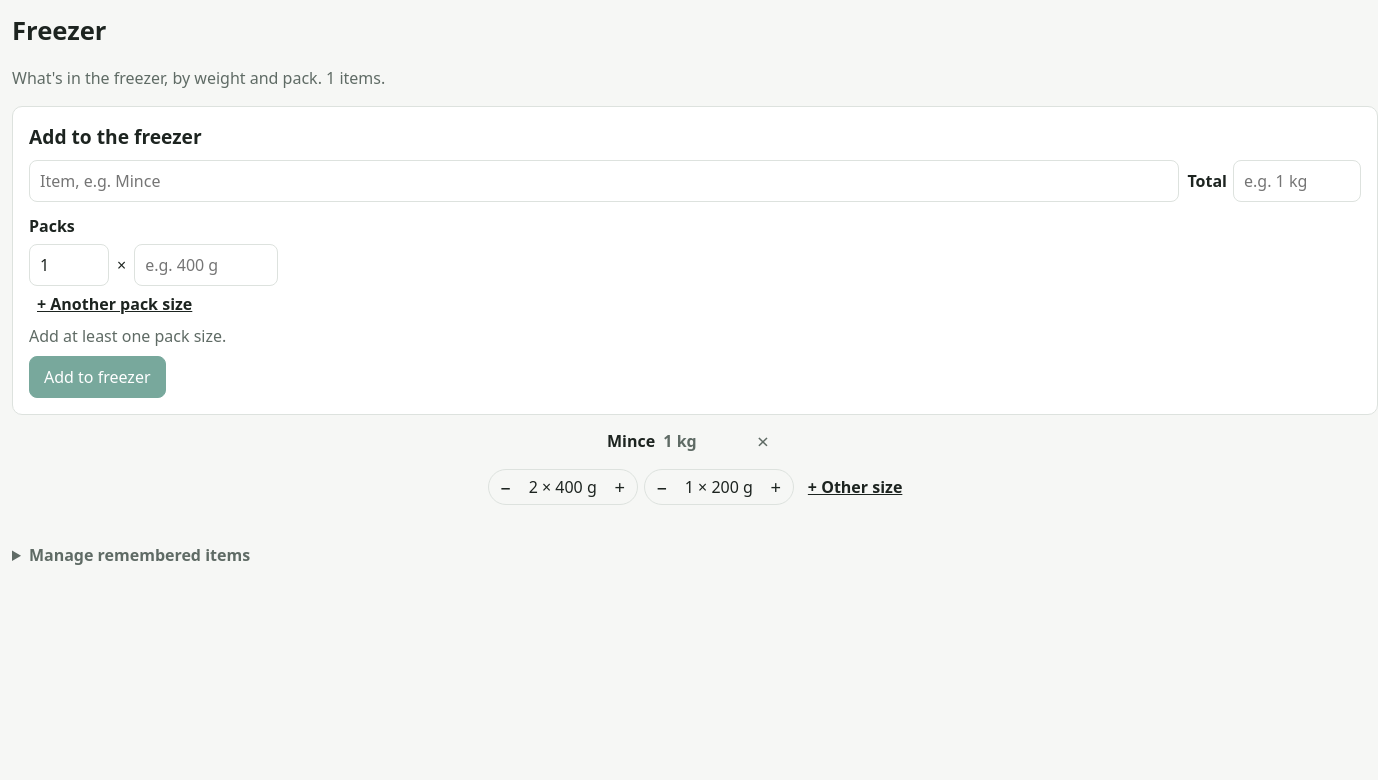
it: FreezerPage › adds an item with packs, checking they add up to the total (F1)
This screenshot has width=1378, height=780.
Later steps or results of the test are not shown.
Expected: the text "Mince" is shown, [607, 430, 655, 452]
In the dropdown named "Item name": (604, 181) [29, 160, 1180, 202], type "Mince"
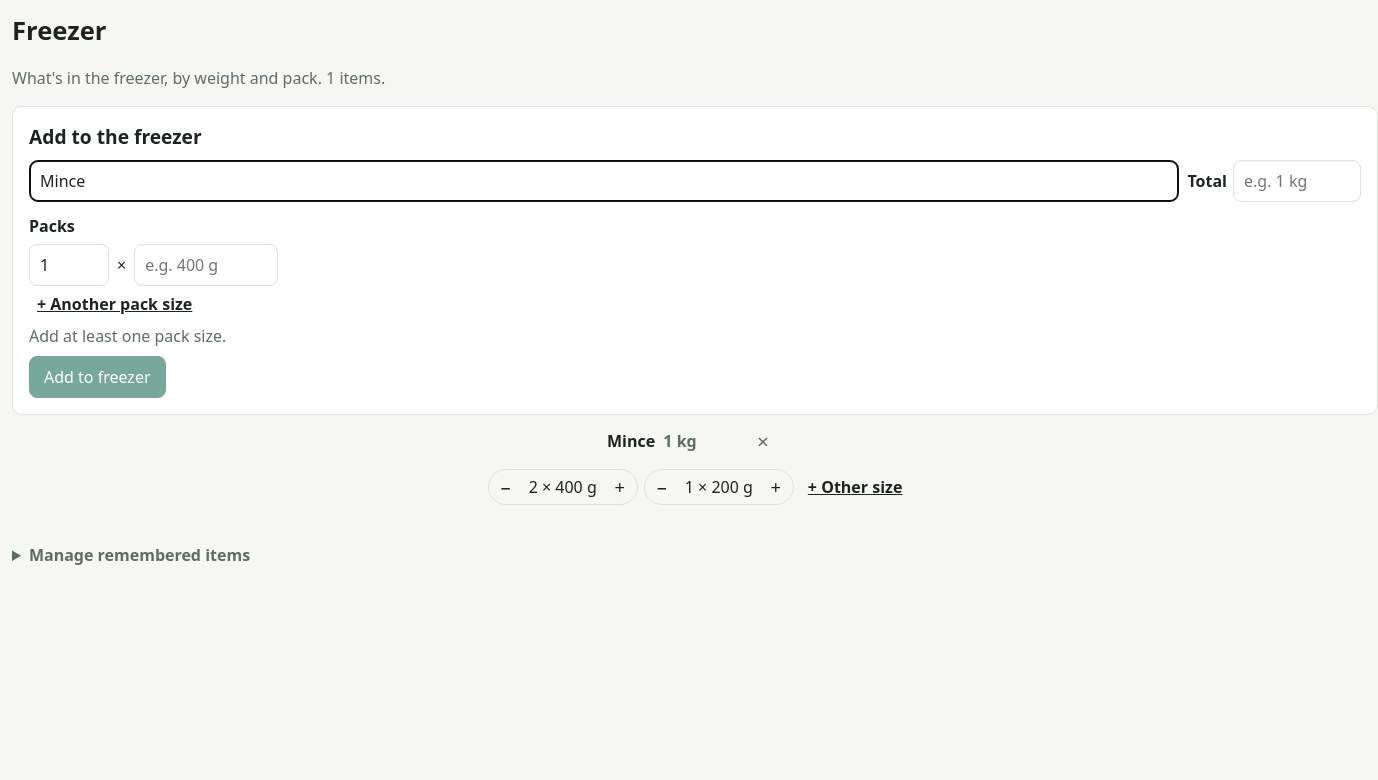
In the field named "Total weight": (1297, 181) [1233, 160, 1361, 202], type "1kg"
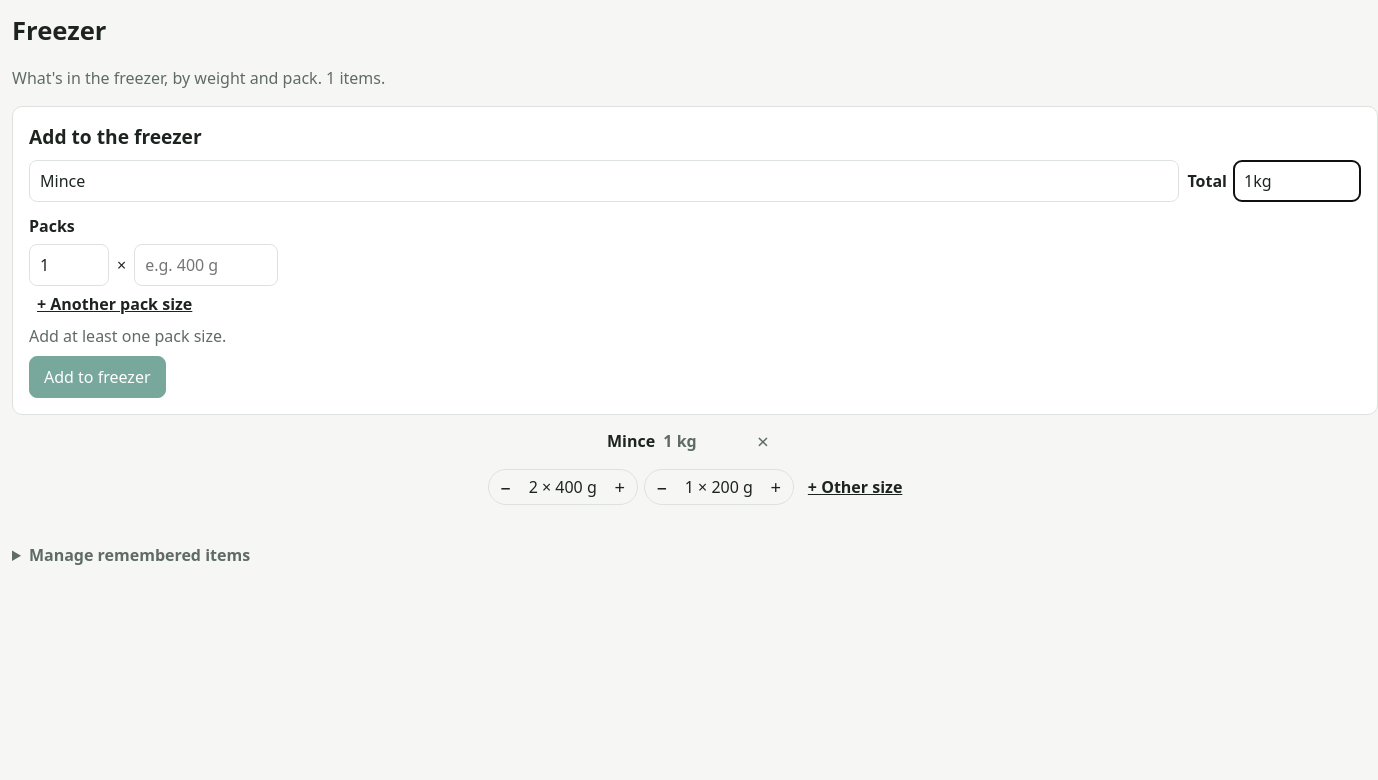
Replace the text in the number field named "Number of packs, row 1" with "2": (69, 265) [29, 244, 109, 286]
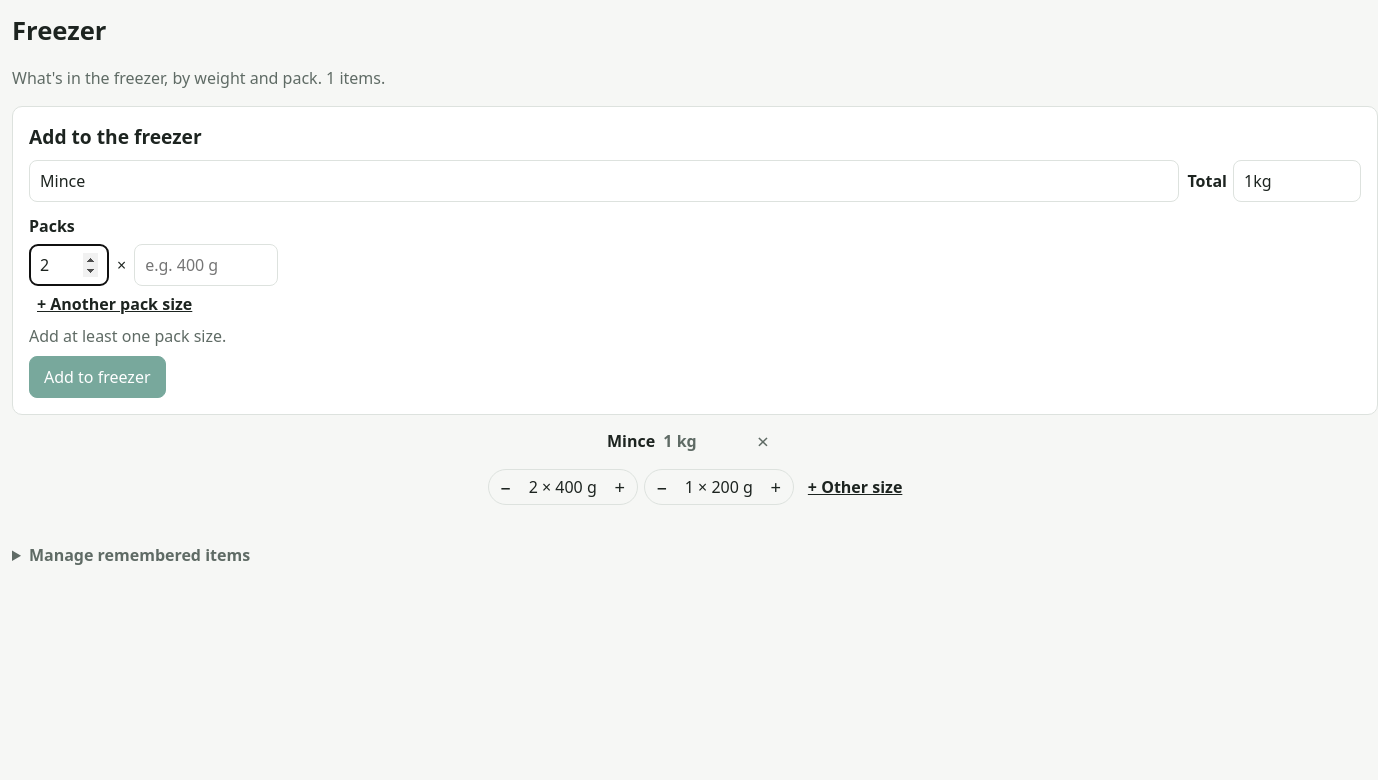
In the field named "Pack weight, row 1": (206, 265) [134, 244, 278, 286], type "400 g"
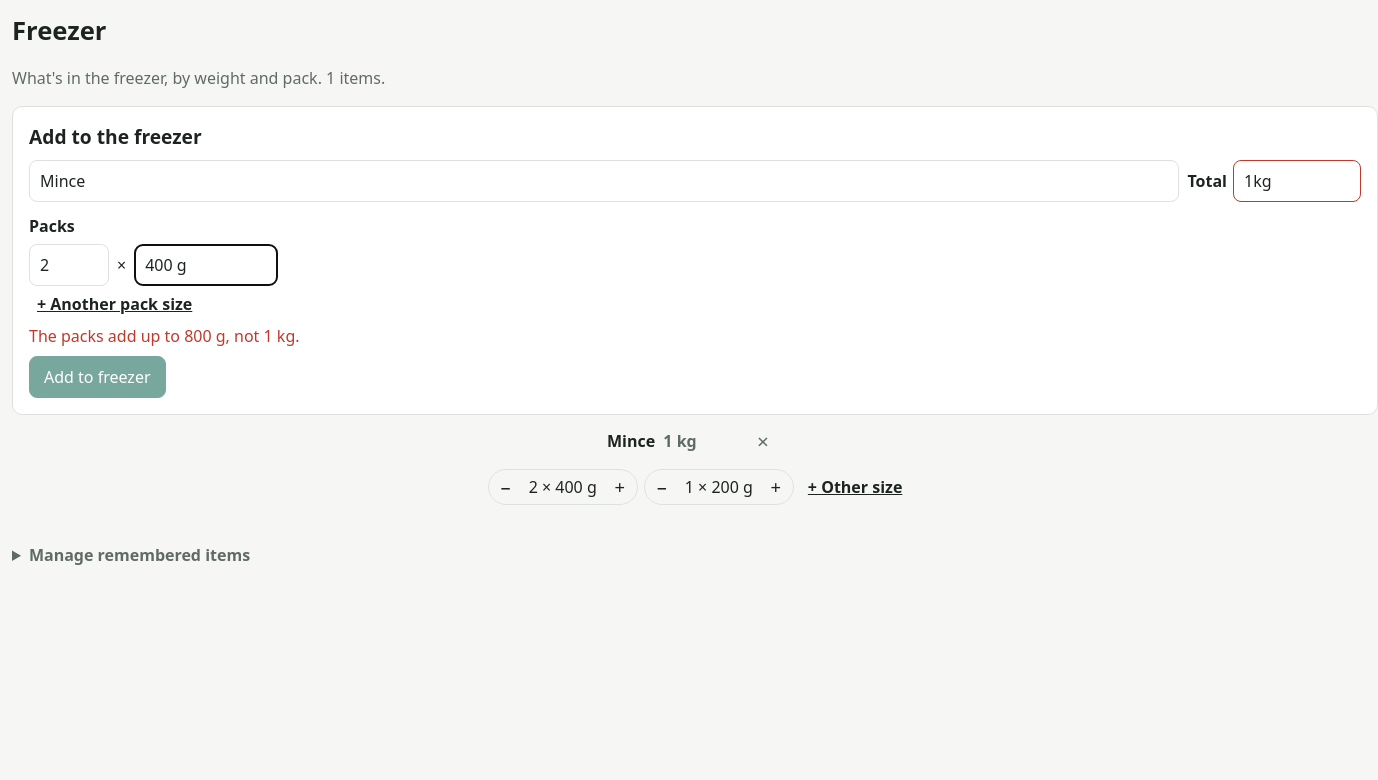
Expected: the button "Add to freezer" is disabled, [29, 356, 166, 398]
Expected: the text "The packs add up to 800 g, not 1 kg." is shown, [29, 325, 300, 347]
Click the button "+ Another pack size": (111, 304) [29, 292, 192, 316]
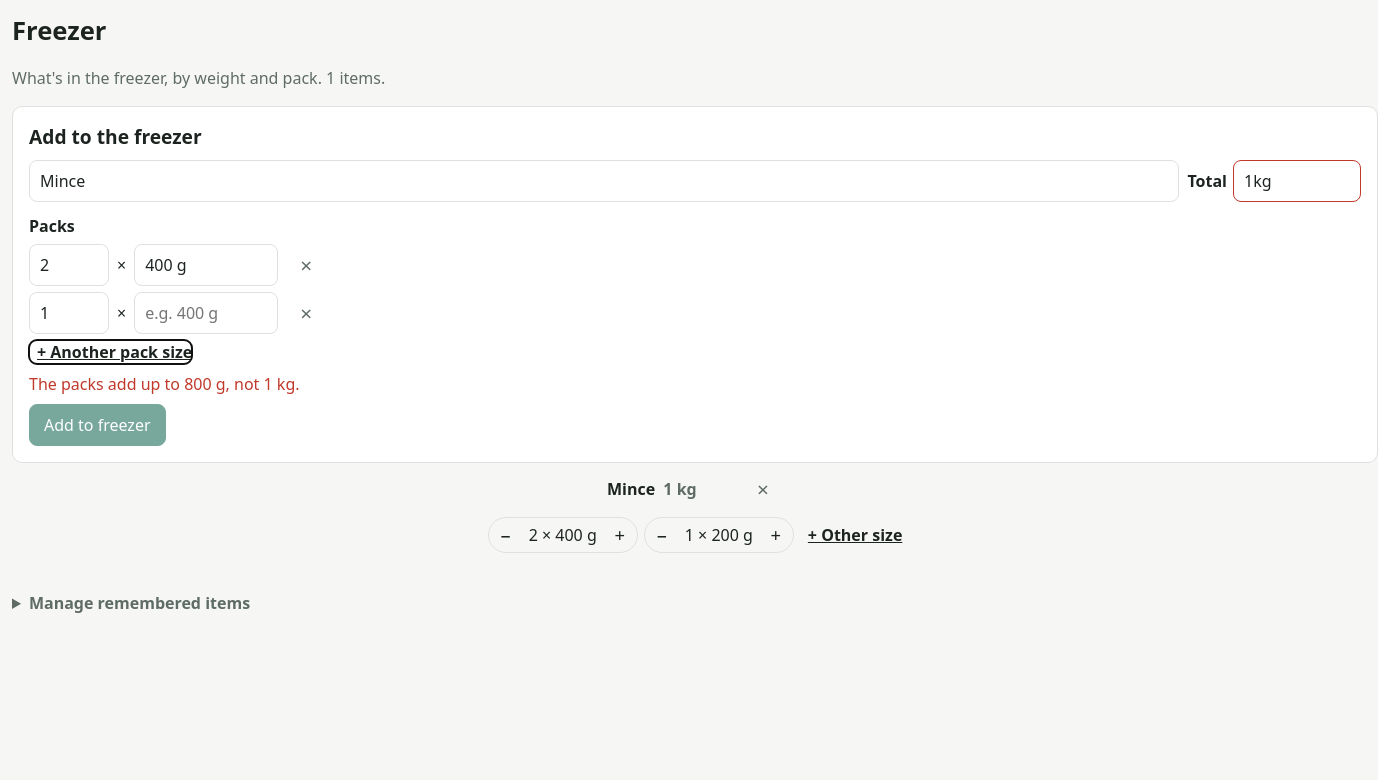
In the field named "Pack weight, row 2": (206, 313) [134, 292, 278, 334], type "200"
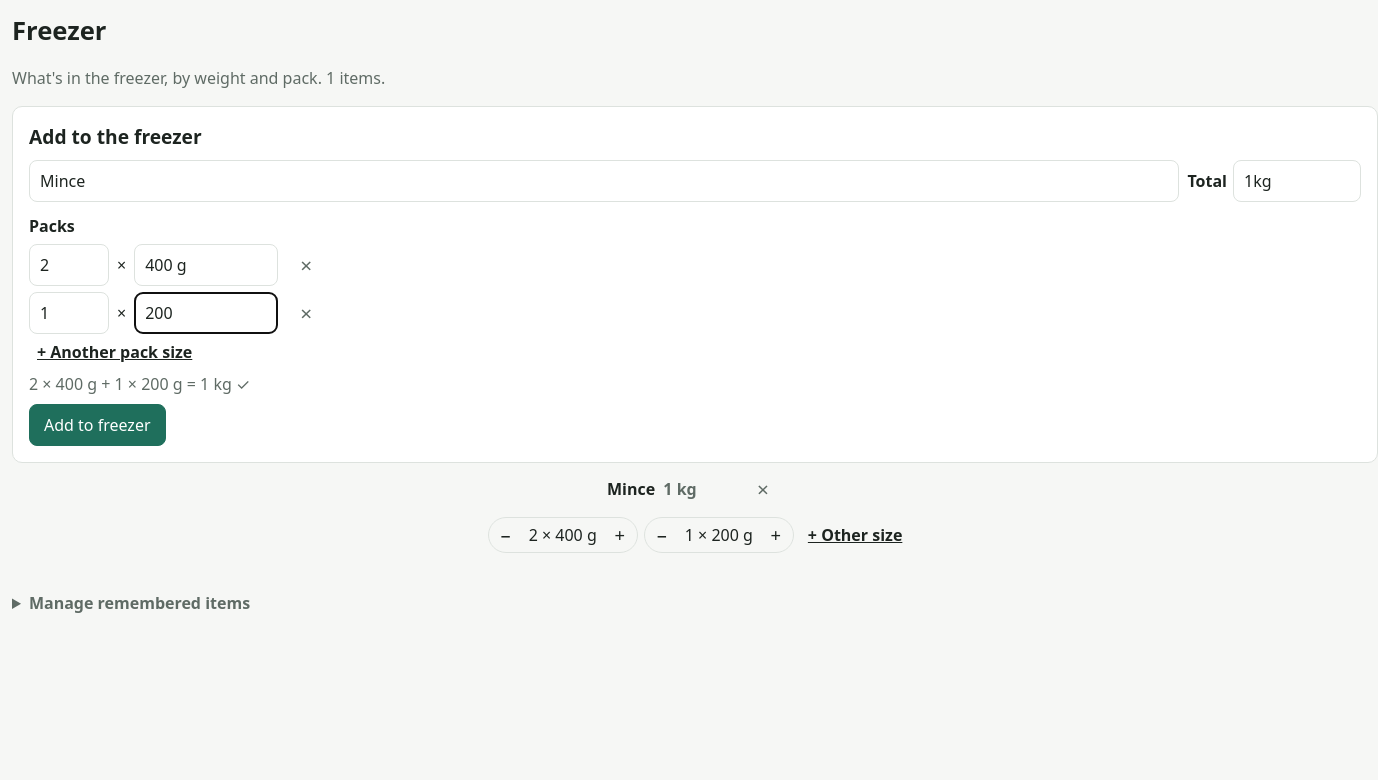
Expected: the text "2 × 400 g + 1 × 200 g = 1 kg ✓" is shown, [29, 373, 250, 395]
